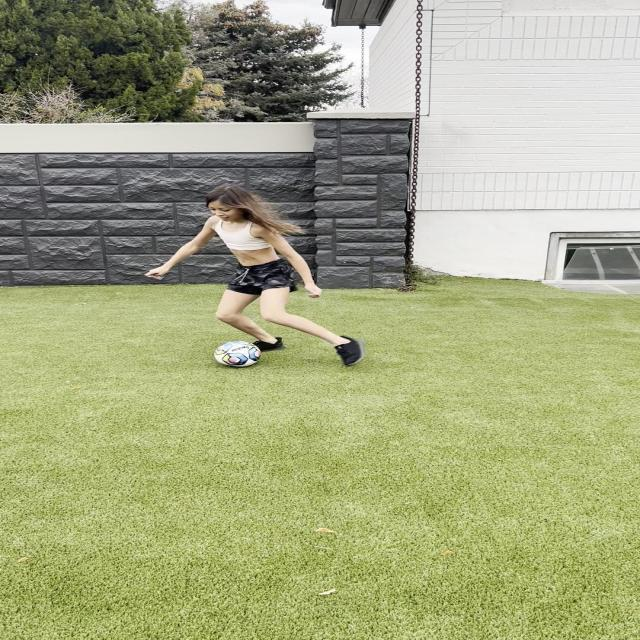Soccer Ball: (214, 340, 262, 367)
